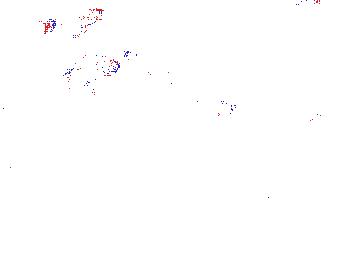X-ray fish: (197, 98, 237, 128), (253, 78, 274, 109)
glassfish: (225, 102, 327, 165)
redtail glassfish: (121, 46, 177, 88), (58, 54, 121, 88), (39, 7, 108, 36), (128, 77, 178, 96)
